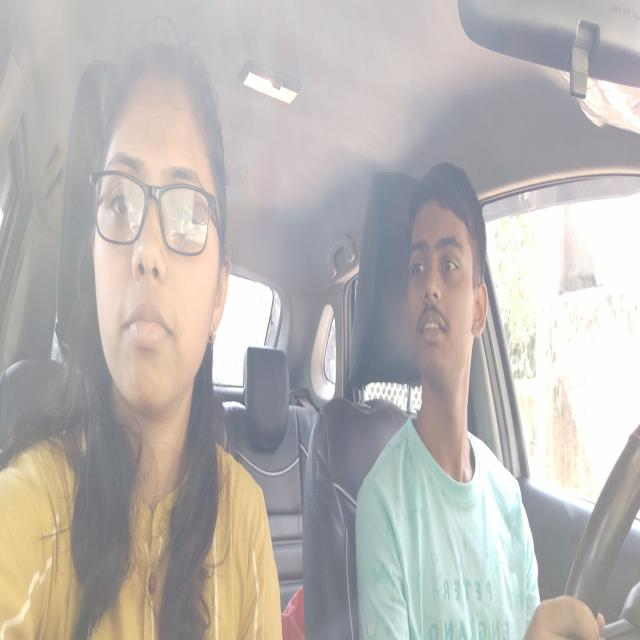LeftRight: (404, 178, 490, 385)
person: (95, 76, 223, 402)
